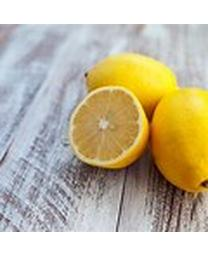lemon: (69, 85, 150, 170), (152, 88, 207, 191), (85, 55, 179, 115)
